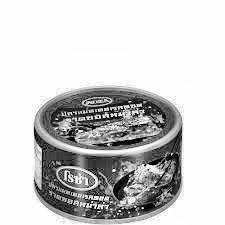can: (27, 79, 187, 225)
